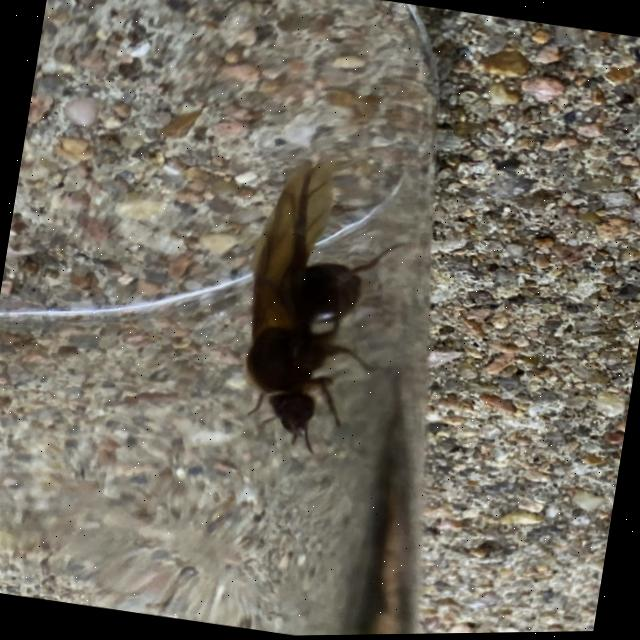Alive-Female-Alate: (225, 145, 435, 469)
